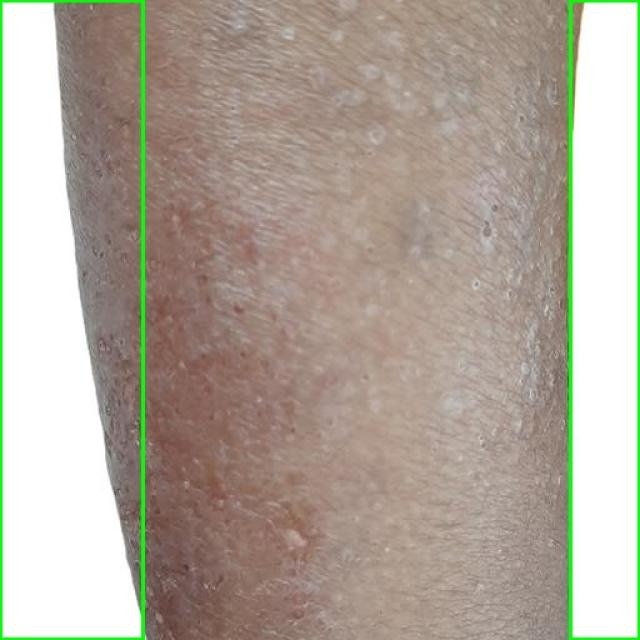Atopic Dermatitis: (0, 0, 142, 639), (570, 0, 639, 639)
